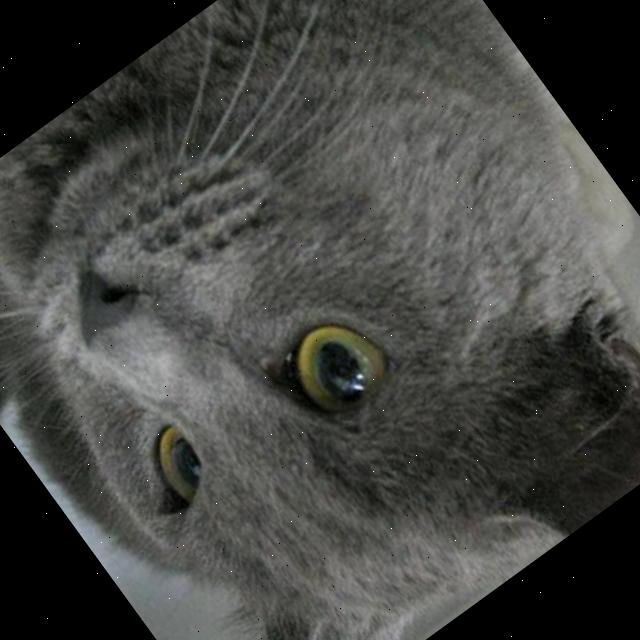cat-eye-normal: (247, 284, 422, 460), (112, 408, 238, 538)
